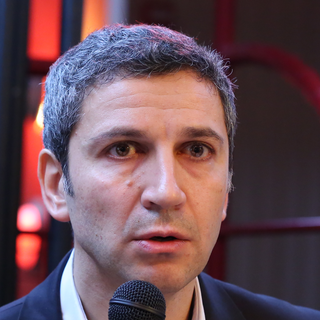eye: (173, 134, 220, 164), (96, 139, 145, 161)
